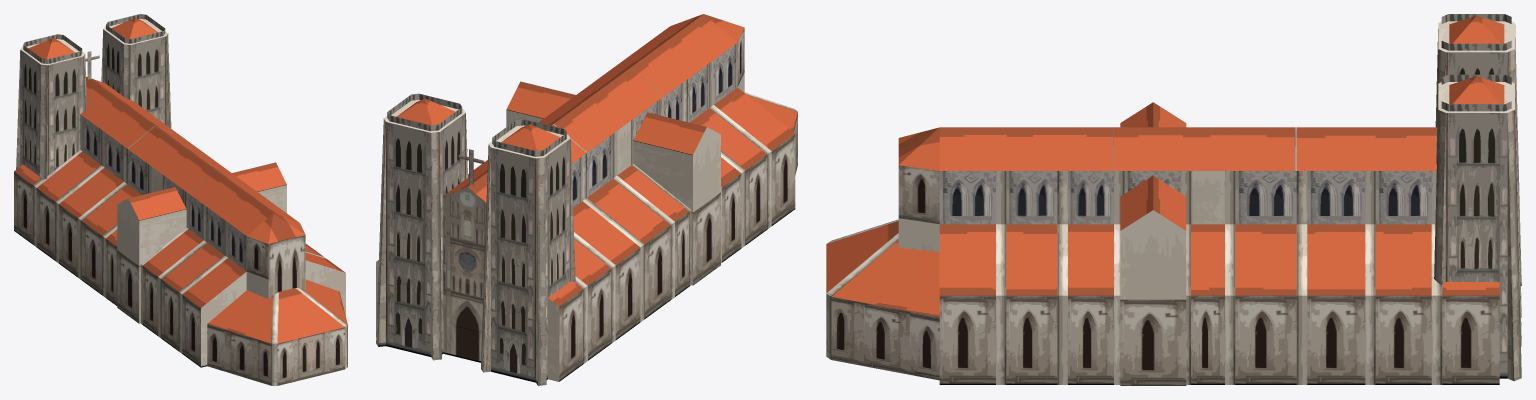
File: SM_Building_Cathedral.fbx
3 renders of one model, left to right at view 1: azimuth 30°, elevation 25°; view 2: azimuth 150°, elevation 25°; view 3: azimuth 270°, elevation 25°, orthographic. The views are drawn at different scales.
Parts seen in each view (by area): view 1: SM_Building_Cathedral; view 2: SM_Building_Cathedral; view 3: SM_Building_Cathedral.
Part boxes in pixels (x1,y1,x2,y2): SM_Building_Cathedral: (14, 14, 347, 385); SM_Building_Cathedral: (376, 14, 797, 385); SM_Building_Cathedral: (826, 14, 1521, 385).
Bounding box in the file's own units: 22.53 × 27.85 × 61.37.
